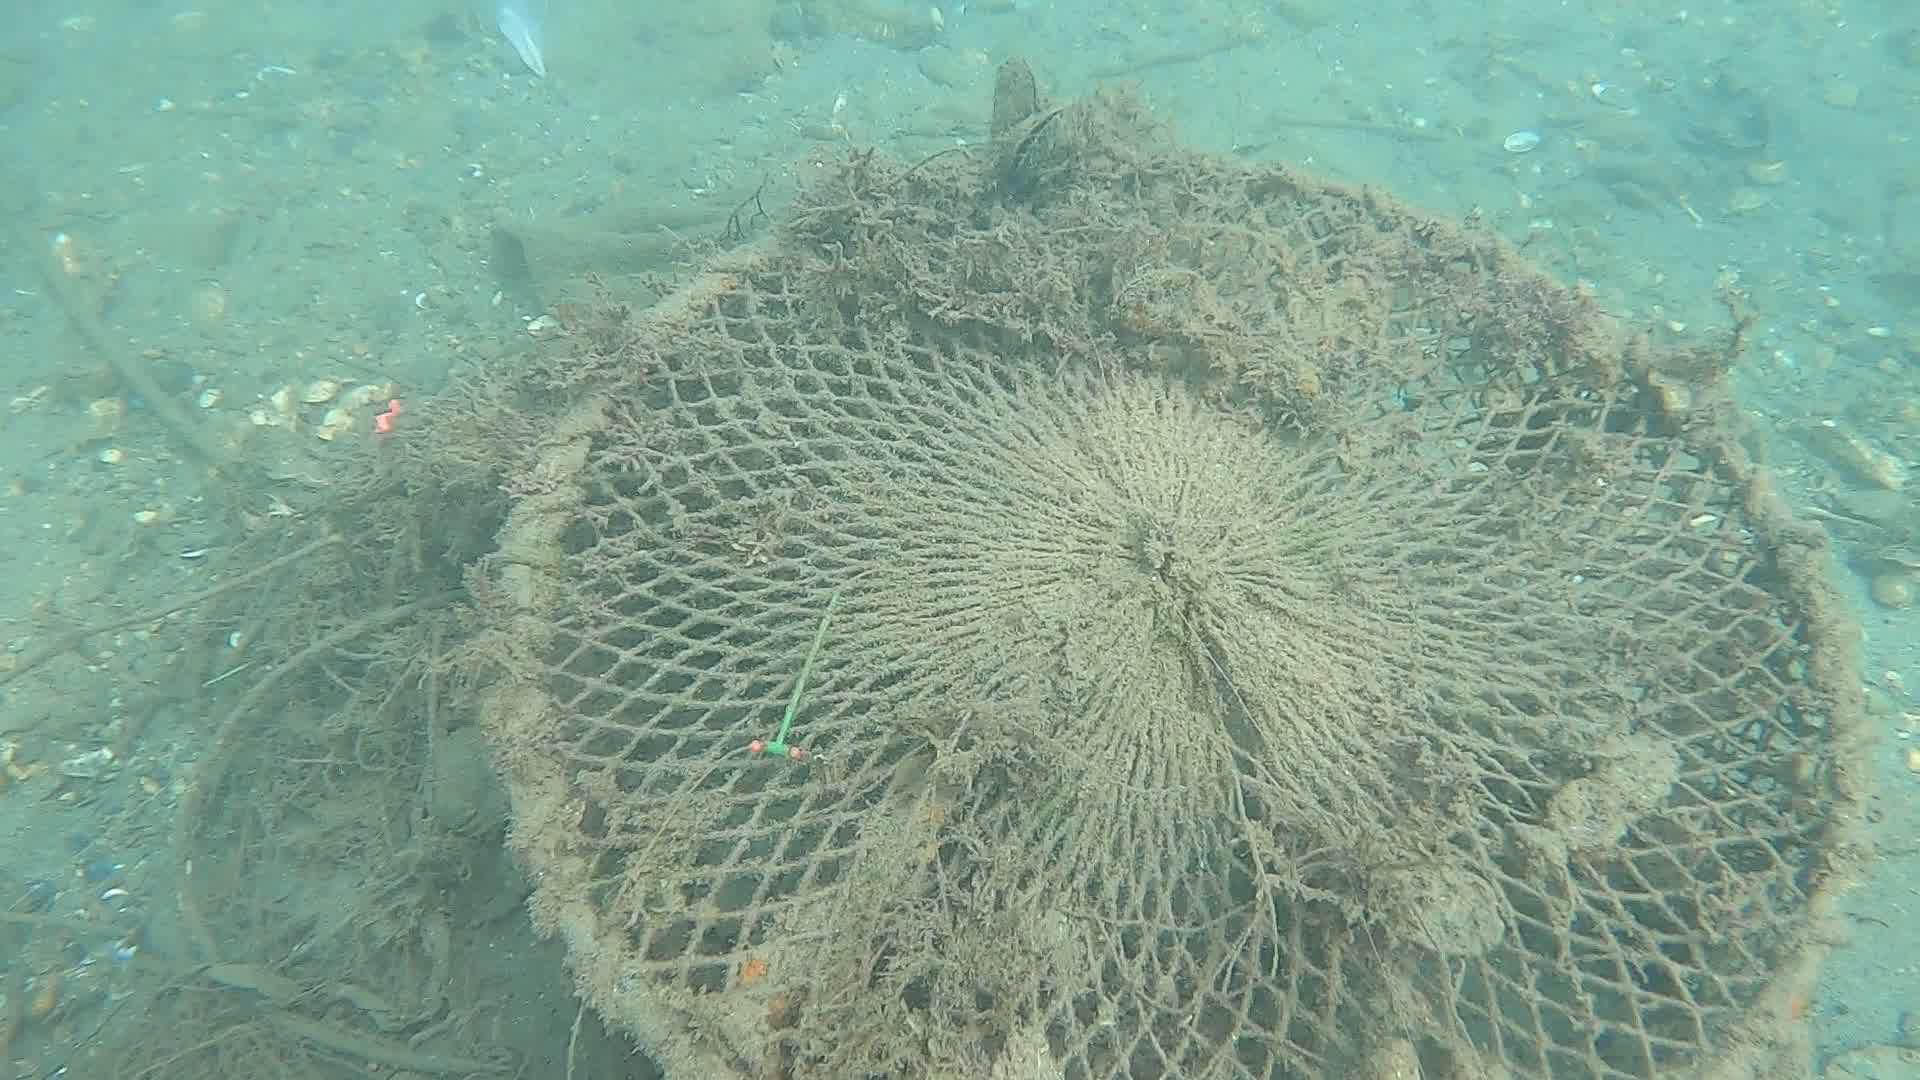circular fish trap: (483, 117, 1873, 1080)
